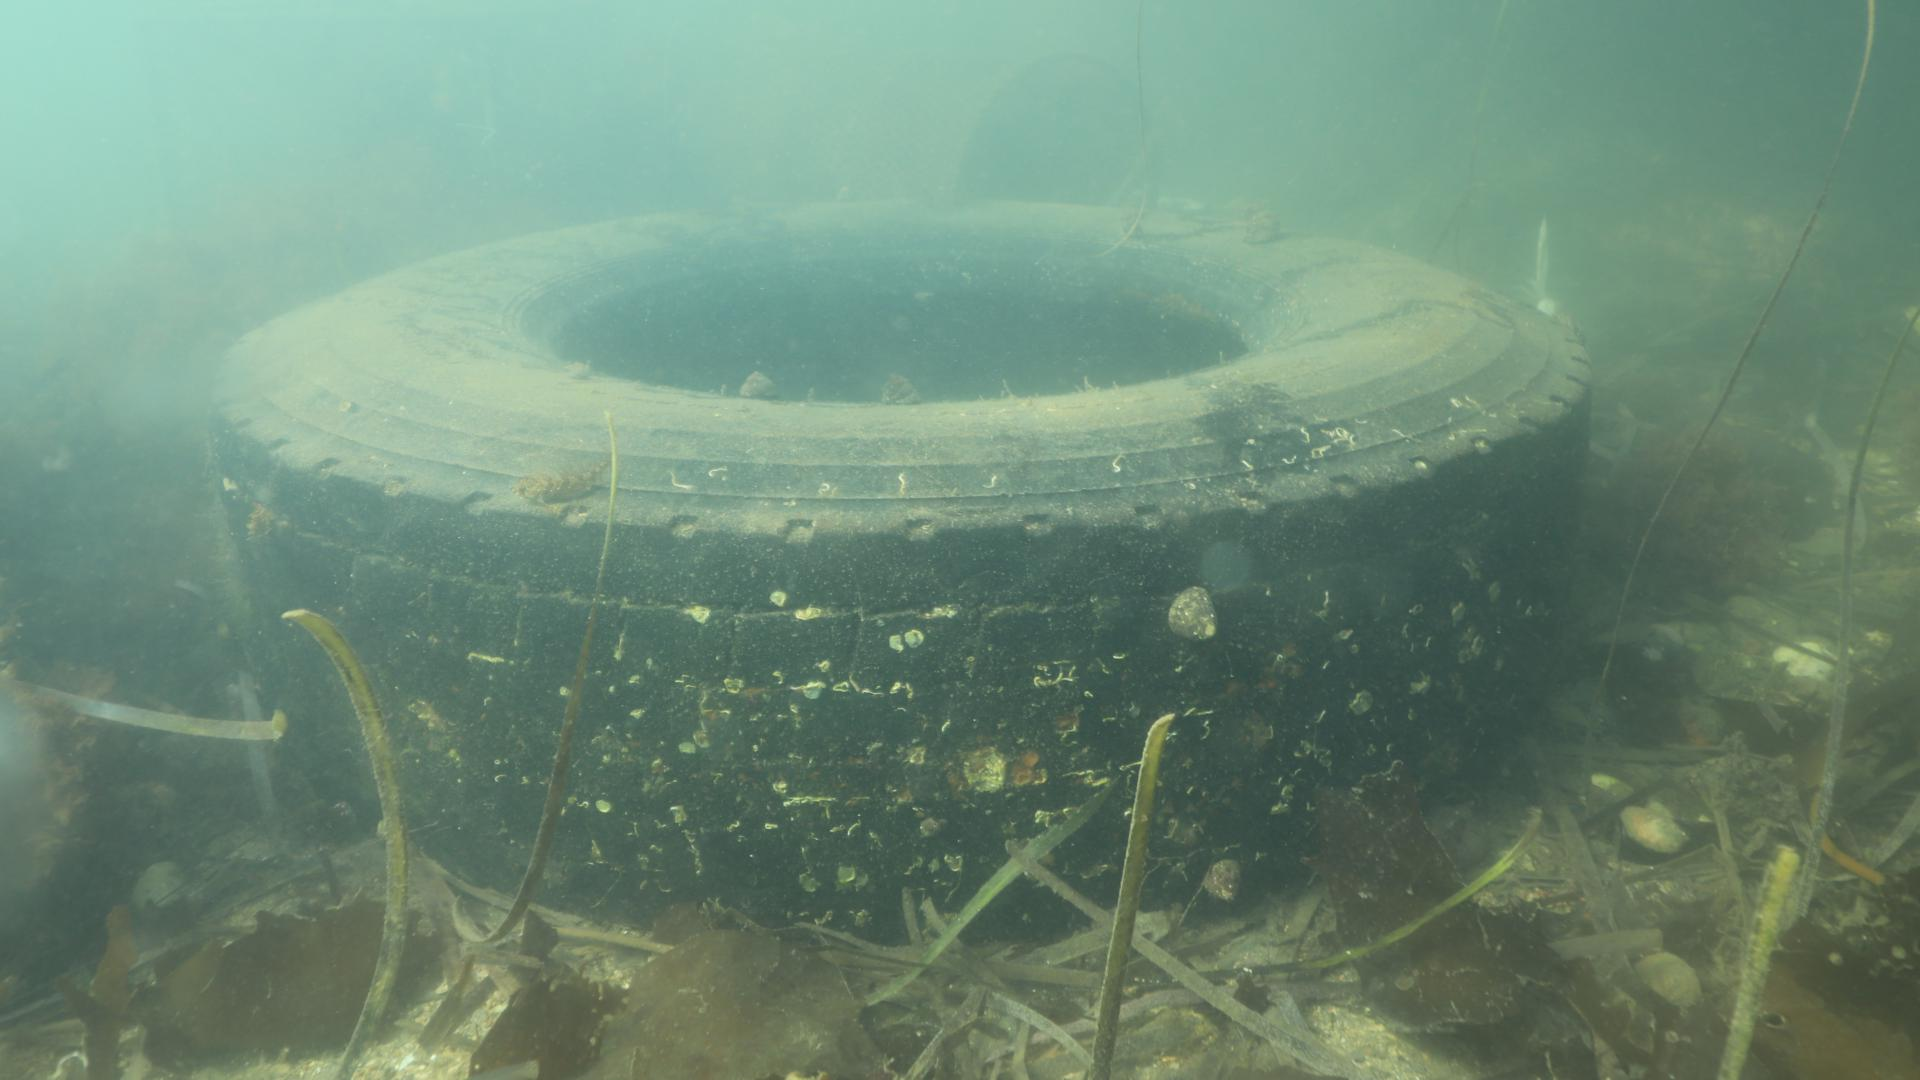tire: (210, 196, 1596, 945)
